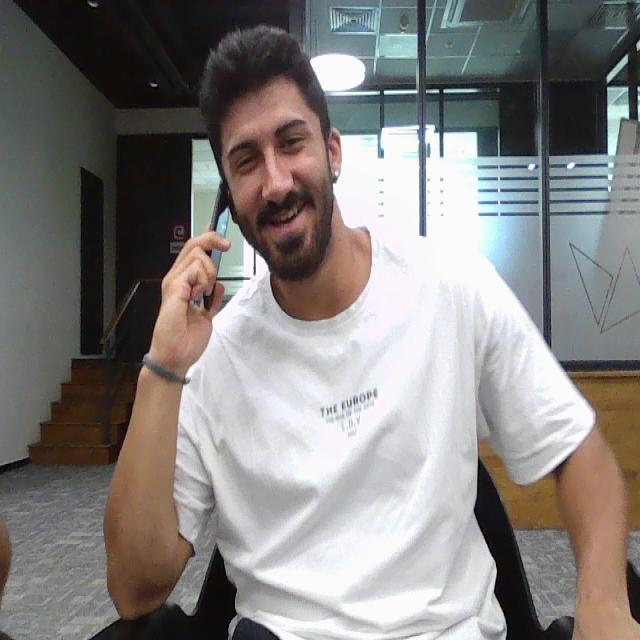phone: (202, 185, 233, 315)
